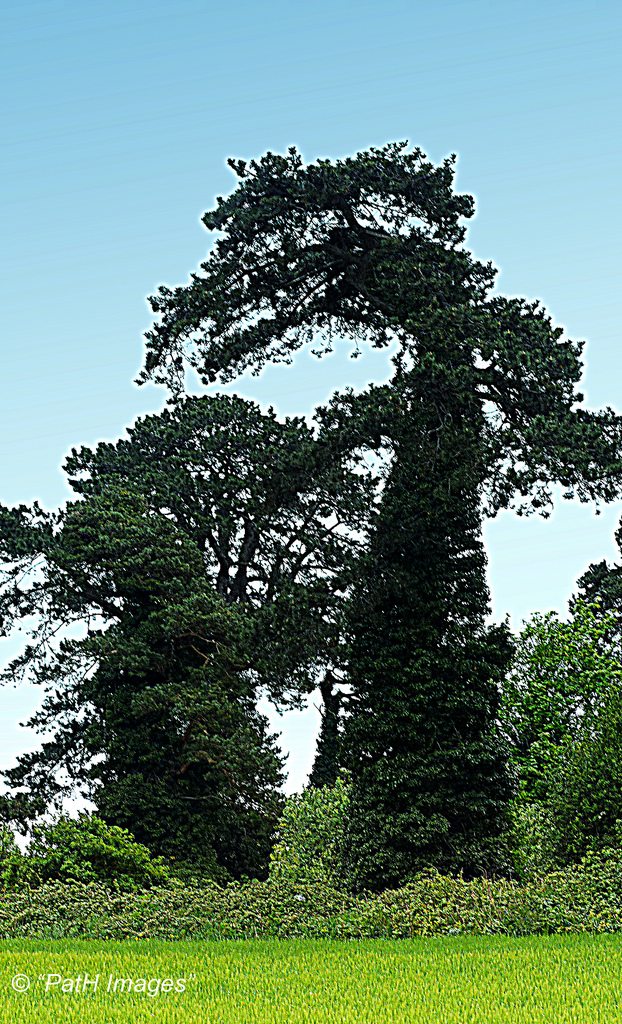chopped lettuce: (370, 903, 576, 939)
